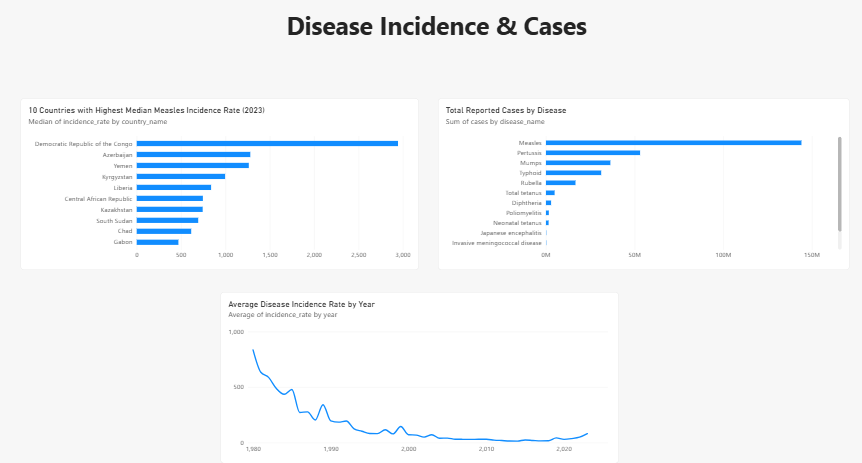

The dashboard page shown, as its layout file describes it:
{"tool":"powerbi","page":{"name":"Disease Incidence & Cases","canvas":[1920,1080],"ordinal":2},"visuals":[{"type":"textbox","box":[11.4,45.7,1908.6,111.4],"z":0},{"type":"clusteredBarChart","title":"10 Countries with Highest Median Measles Incidence Rate (2023)","fields":{"Category":["Countries.country_name"],"Y":["Median(Incidence_Rate.incidence_rate)"]},"box":[60.6,242.4,866.1,373.3],"z":1},{"type":"clusteredBarChart","title":"Total Reported Cases by Disease","fields":{"Category":["Diseases.disease_name"],"Y":["Sum(Reported_Cases.cases)"]},"box":[966.7,242.4,895.3,373.3],"z":2},{"type":"lineChart","title":"Average Disease Incidence Rate by Year","fields":{"Category":["Years.year"],"Y":["Avg(Incidence_Rate.incidence_rate)"]},"box":[493.9,663.6,866,373],"z":3}]}

Visuals, with their boxes on the page's 1920x1080 design canvas (x1, y1, x2, y2). These are canvas units, not pixel positions in the 862x463 screenshot, which may show the page scaled, cropped or inside an application window:
textbox: <bbox>11, 46, 1920, 157</bbox>
"10 Countries with Highest Median Measles Incidence Rate (2023)" clusteredBarChart: <bbox>61, 242, 927, 616</bbox>
"Total Reported Cases by Disease" clusteredBarChart: <bbox>967, 242, 1862, 616</bbox>
"Average Disease Incidence Rate by Year" lineChart: <bbox>494, 664, 1360, 1037</bbox>
